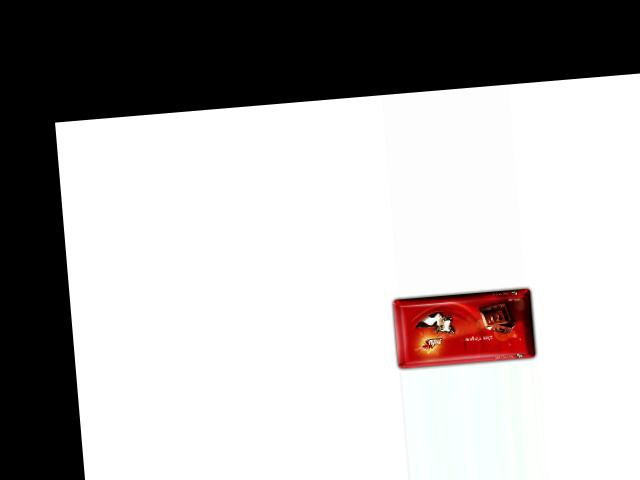chocolate: (384, 283, 537, 369)
